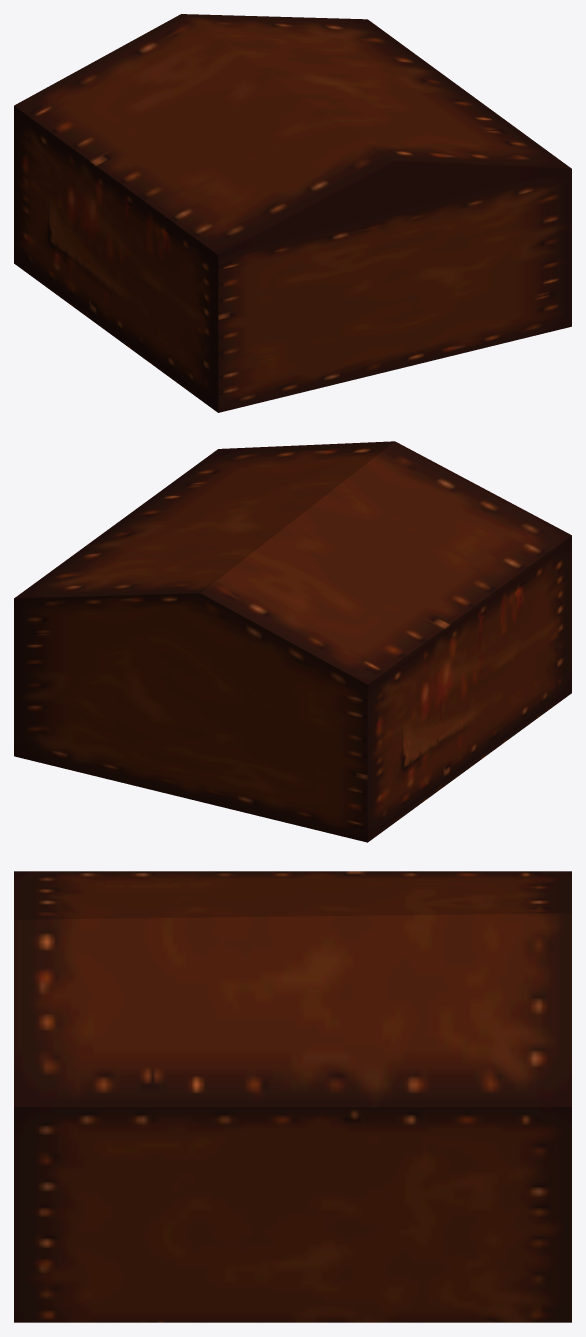
File: Dachluke_Groß_1275.glb
The picture shows the model from 3 angles, top to bottom: view 1: azimuth 30°, elevation 25°; view 2: azimuth 150°, elevation 25°; view 3: azimuth 270°, elevation 25°; orthographic projection. The views are drawn at different scales.
Visible parts, largest first — view 1: deckaufbau_hintenShape; view 2: deckaufbau_hintenShape; view 3: deckaufbau_hintenShape.
Part boxes in pixels (x1,y1,x2,y2): deckaufbau_hintenShape: [14, 14, 571, 412]; deckaufbau_hintenShape: [14, 441, 571, 842]; deckaufbau_hintenShape: [14, 871, 571, 1322].
Size of the model in its own units: 1 by 0.5637 by 1.
1 material, 1 textured.
